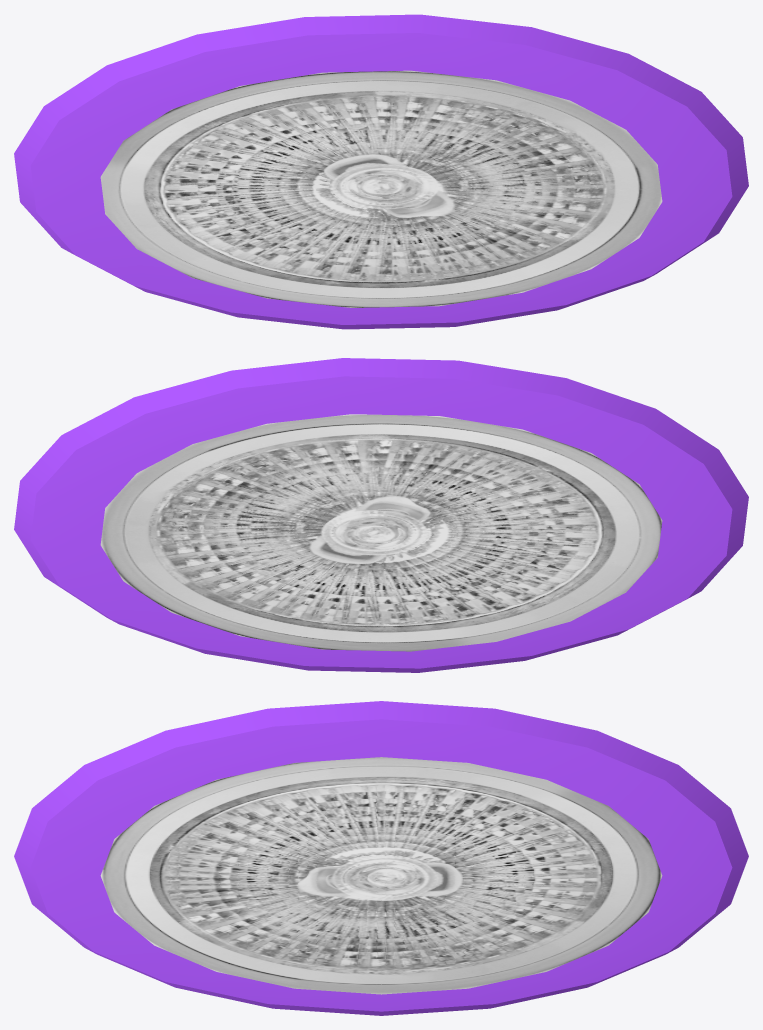
The model's file is LightCeiling01_3.FBX.
The picture shows the model from 3 angles, top to bottom: view 1: azimuth 30°, elevation 25°; view 2: azimuth 150°, elevation 25°; view 3: azimuth 270°, elevation 25°; orthographic projection.
Parts seen in each view (by area): view 1: LightCeiling01_3; view 2: LightCeiling01_3; view 3: LightCeiling01_3.
Boxes of the visible parts, x1,y1,x2,y2 form: LightCeiling01_3: [14, 14, 748, 329]; LightCeiling01_3: [14, 358, 748, 672]; LightCeiling01_3: [14, 701, 748, 1015].
Bounding box in the file's own units: 16.97 × 0.4959 × 16.97.
